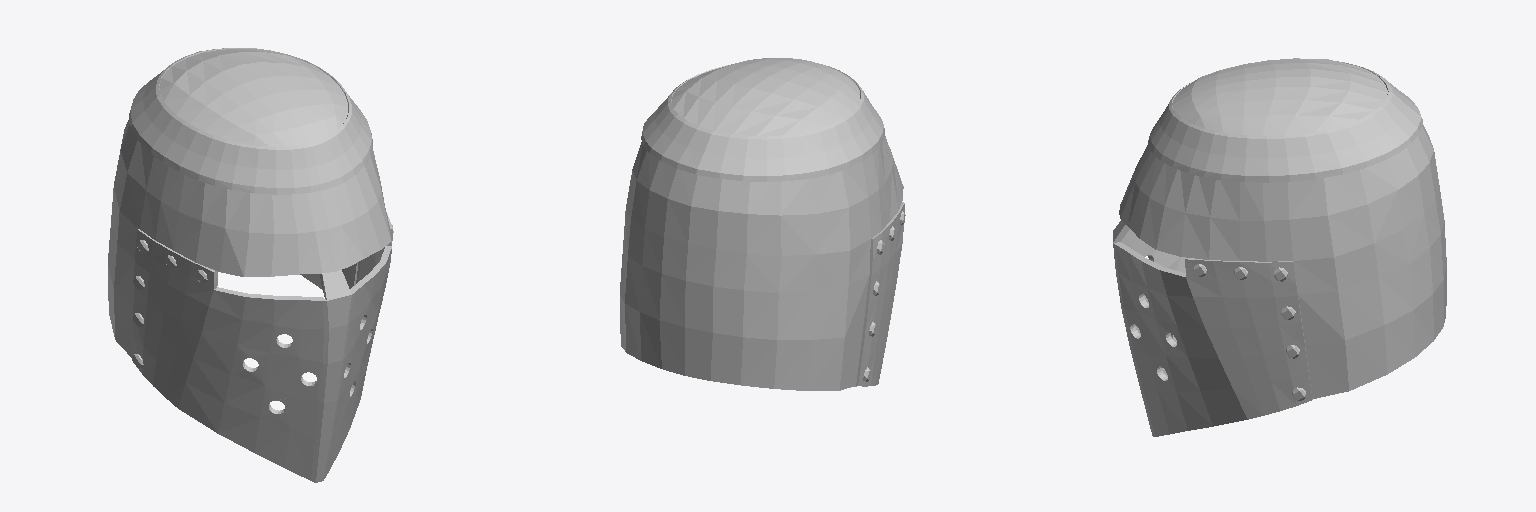
The model's file is helmet.obj.
The picture shows the model from 3 angles: view 1: azimuth 30°, elevation 25°; view 2: azimuth 150°, elevation 25°; view 3: azimuth 270°, elevation 25°; orthographic projection.
Visible parts, largest first — view 1: Soi_SimpleArmor_Helmet_Plane.419; view 2: Soi_SimpleArmor_Helmet_Plane.419; view 3: Soi_SimpleArmor_Helmet_Plane.419.
Boxes of the visible parts, <box> form: Soi_SimpleArmor_Helmet_Plane.419: <box>108,48,393,482</box>; Soi_SimpleArmor_Helmet_Plane.419: <box>620,58,905,390</box>; Soi_SimpleArmor_Helmet_Plane.419: <box>1113,58,1446,436</box>.
Bounding box in the file's own units: 0.2024 × 0.2995 × 0.2523.